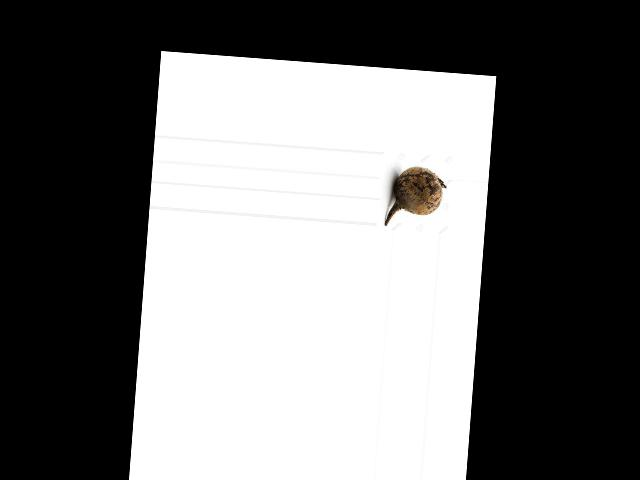beet: (384, 164, 447, 229)
